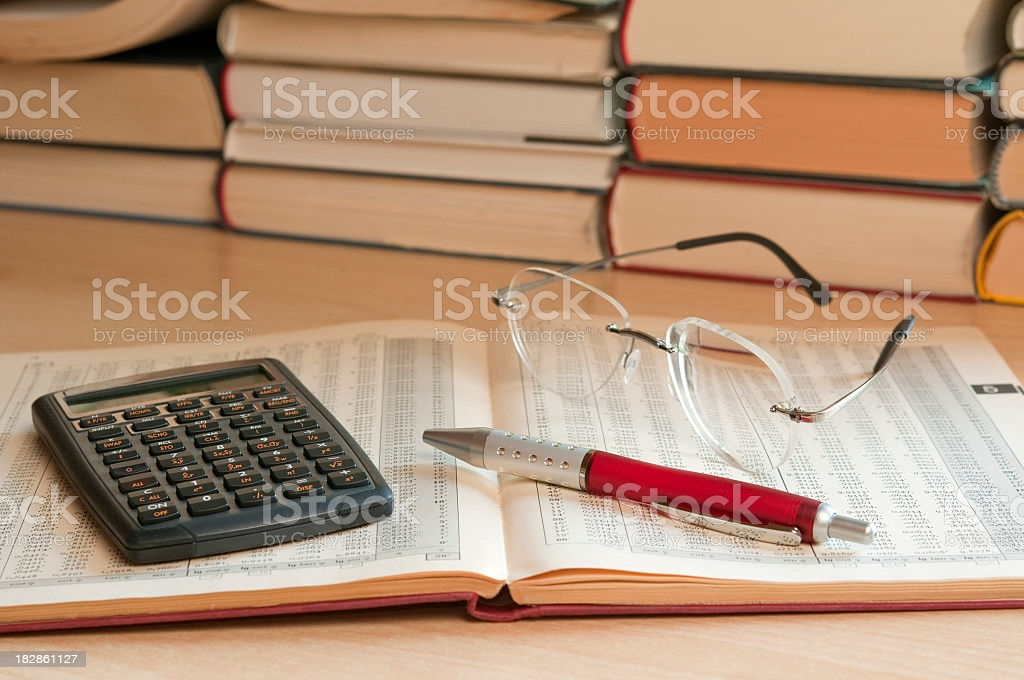Calculator: (29, 349, 397, 568)
